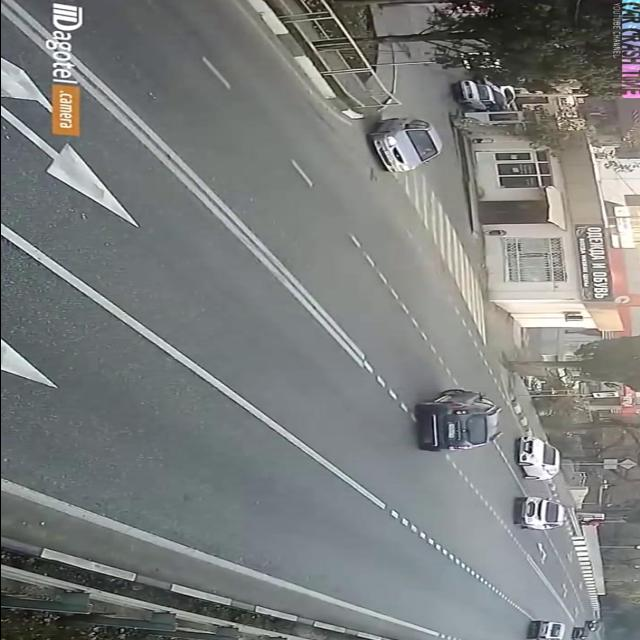non_accident: (407, 387, 571, 535)
